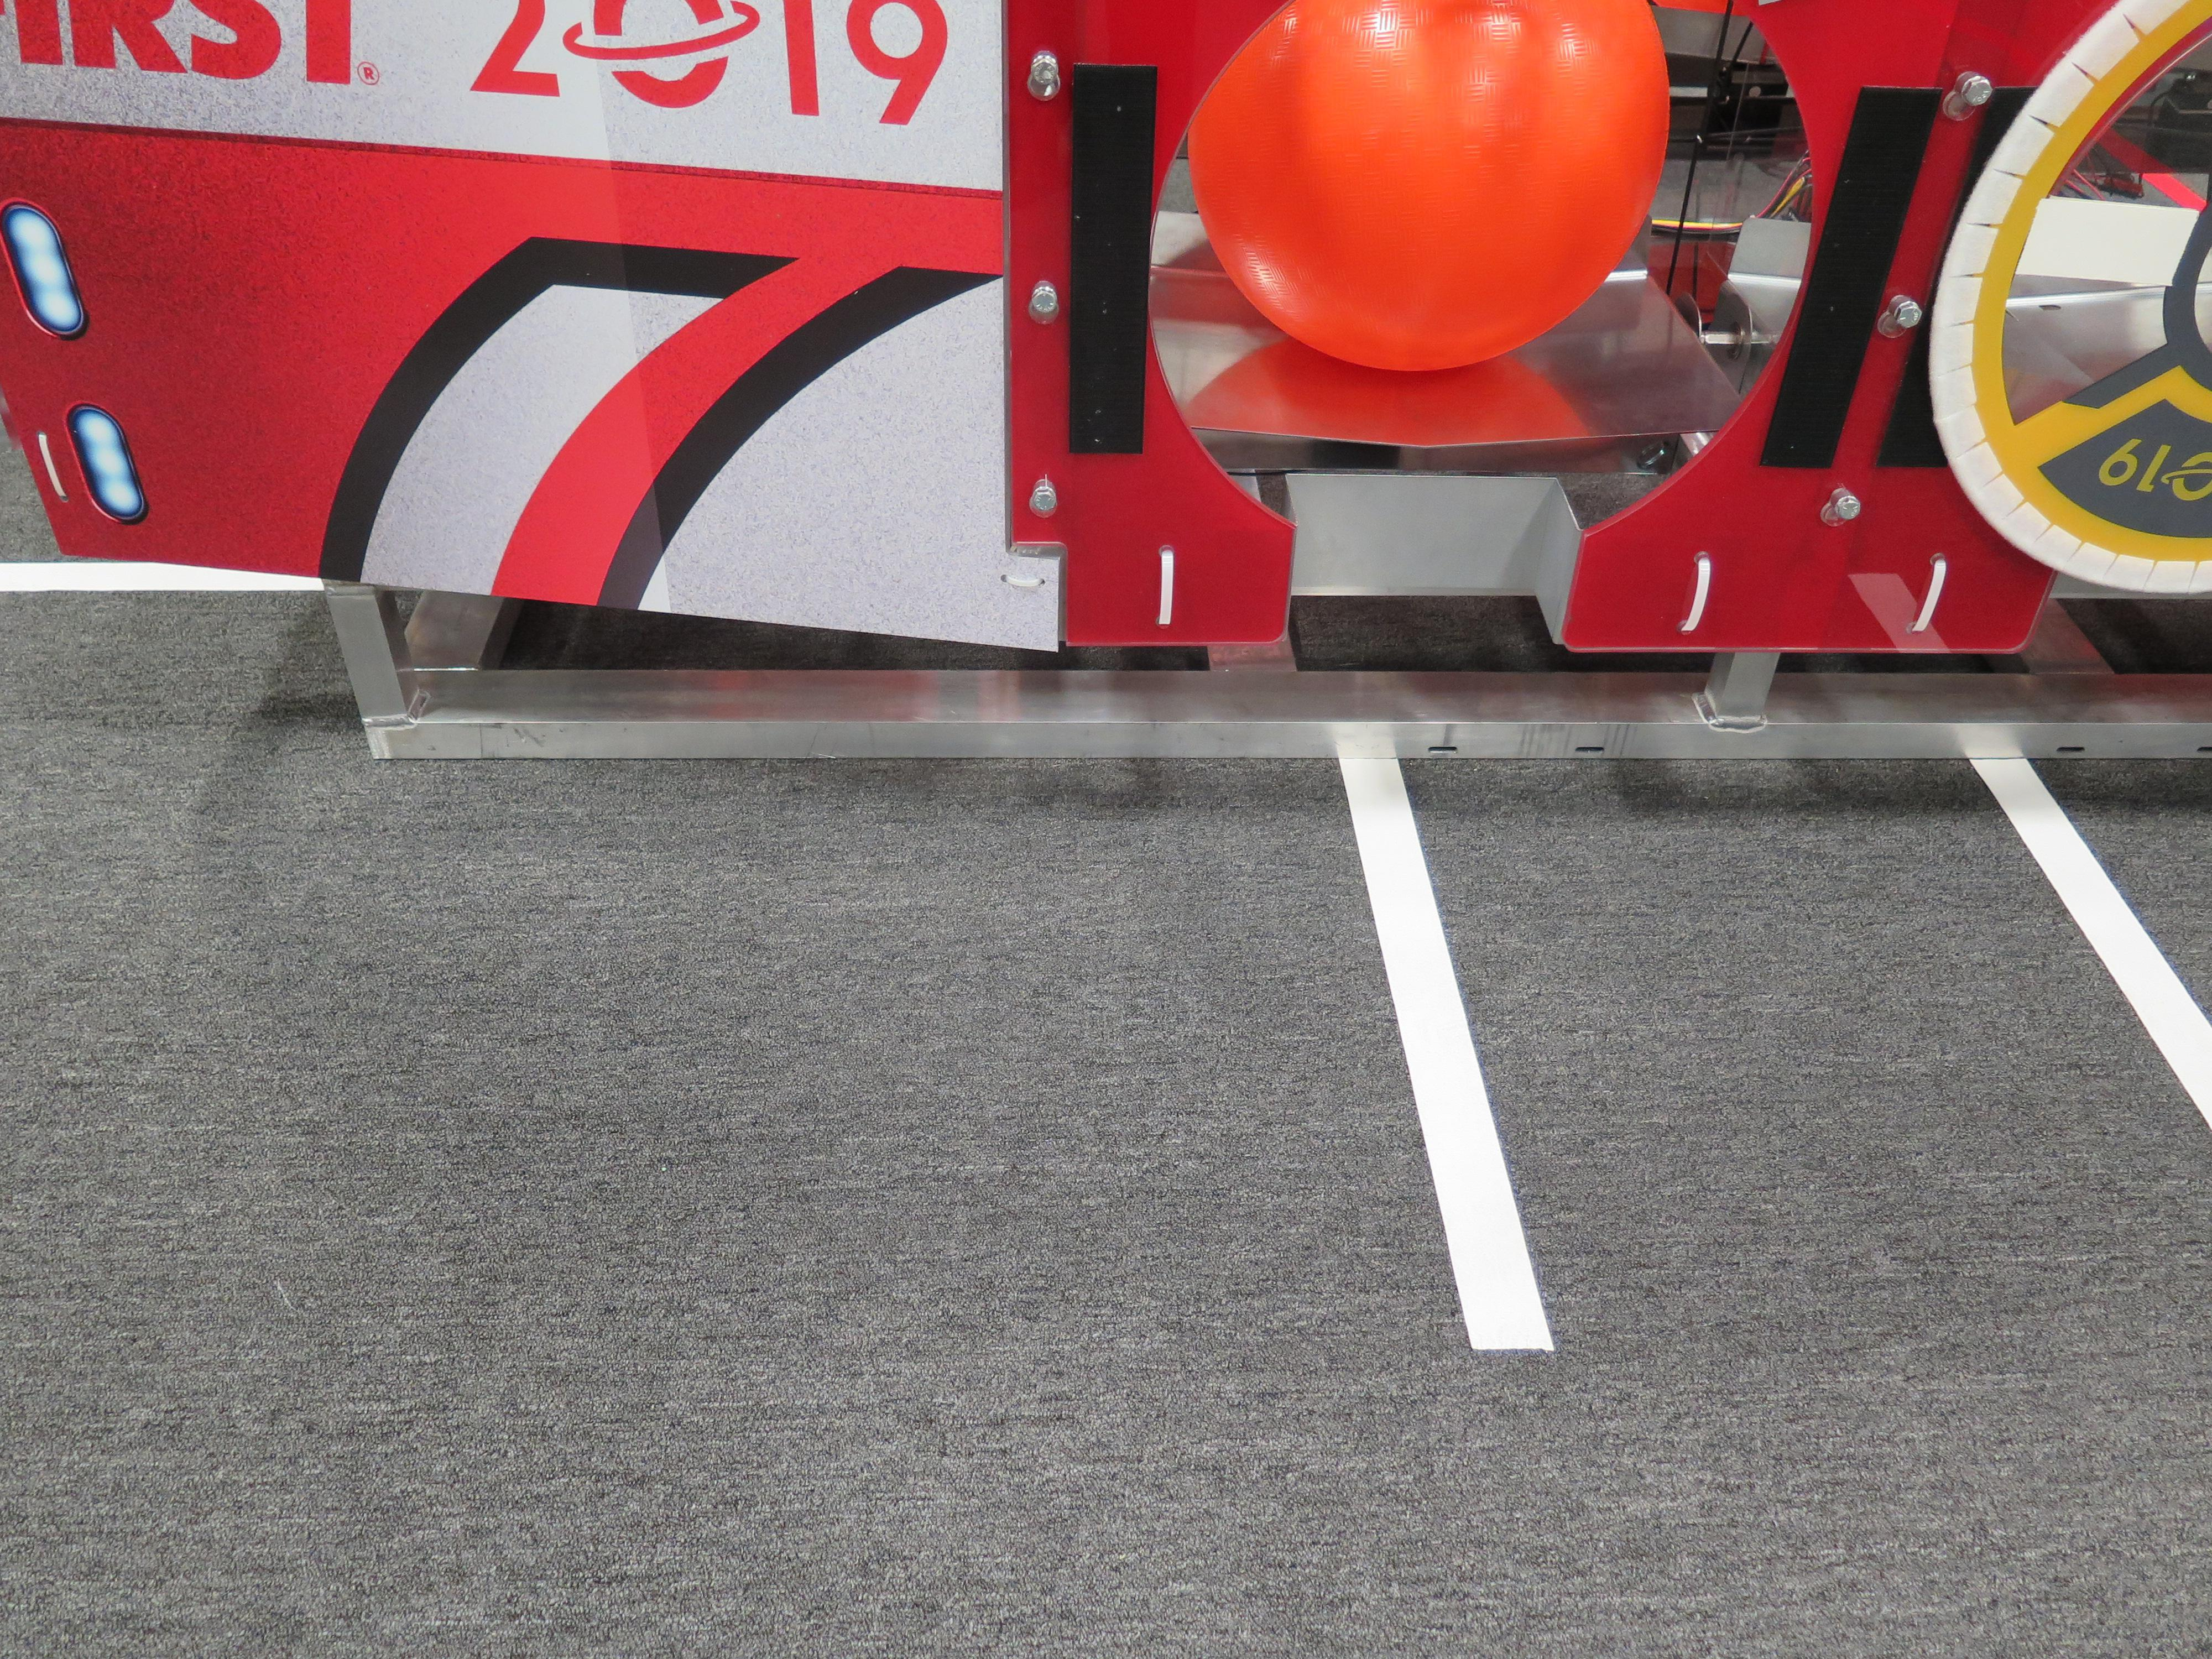Ball: (1184, 0, 1669, 373)
Hatch: (1930, 0, 2212, 598)
